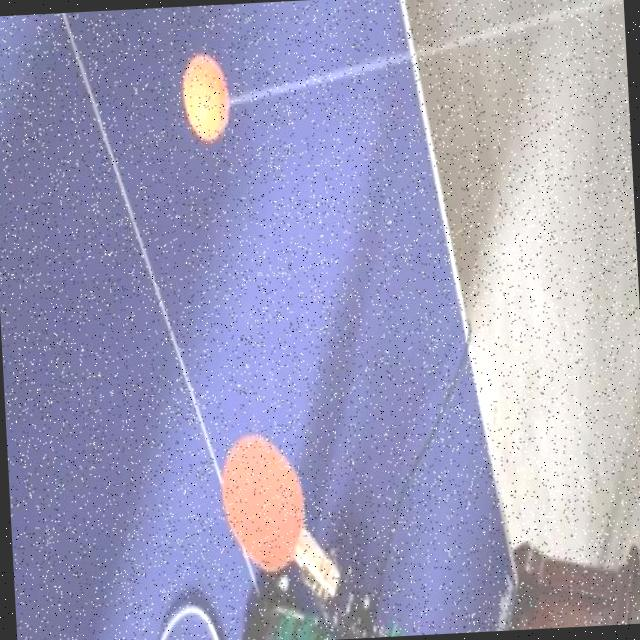ping-pong-ball: (181, 56, 233, 142)
